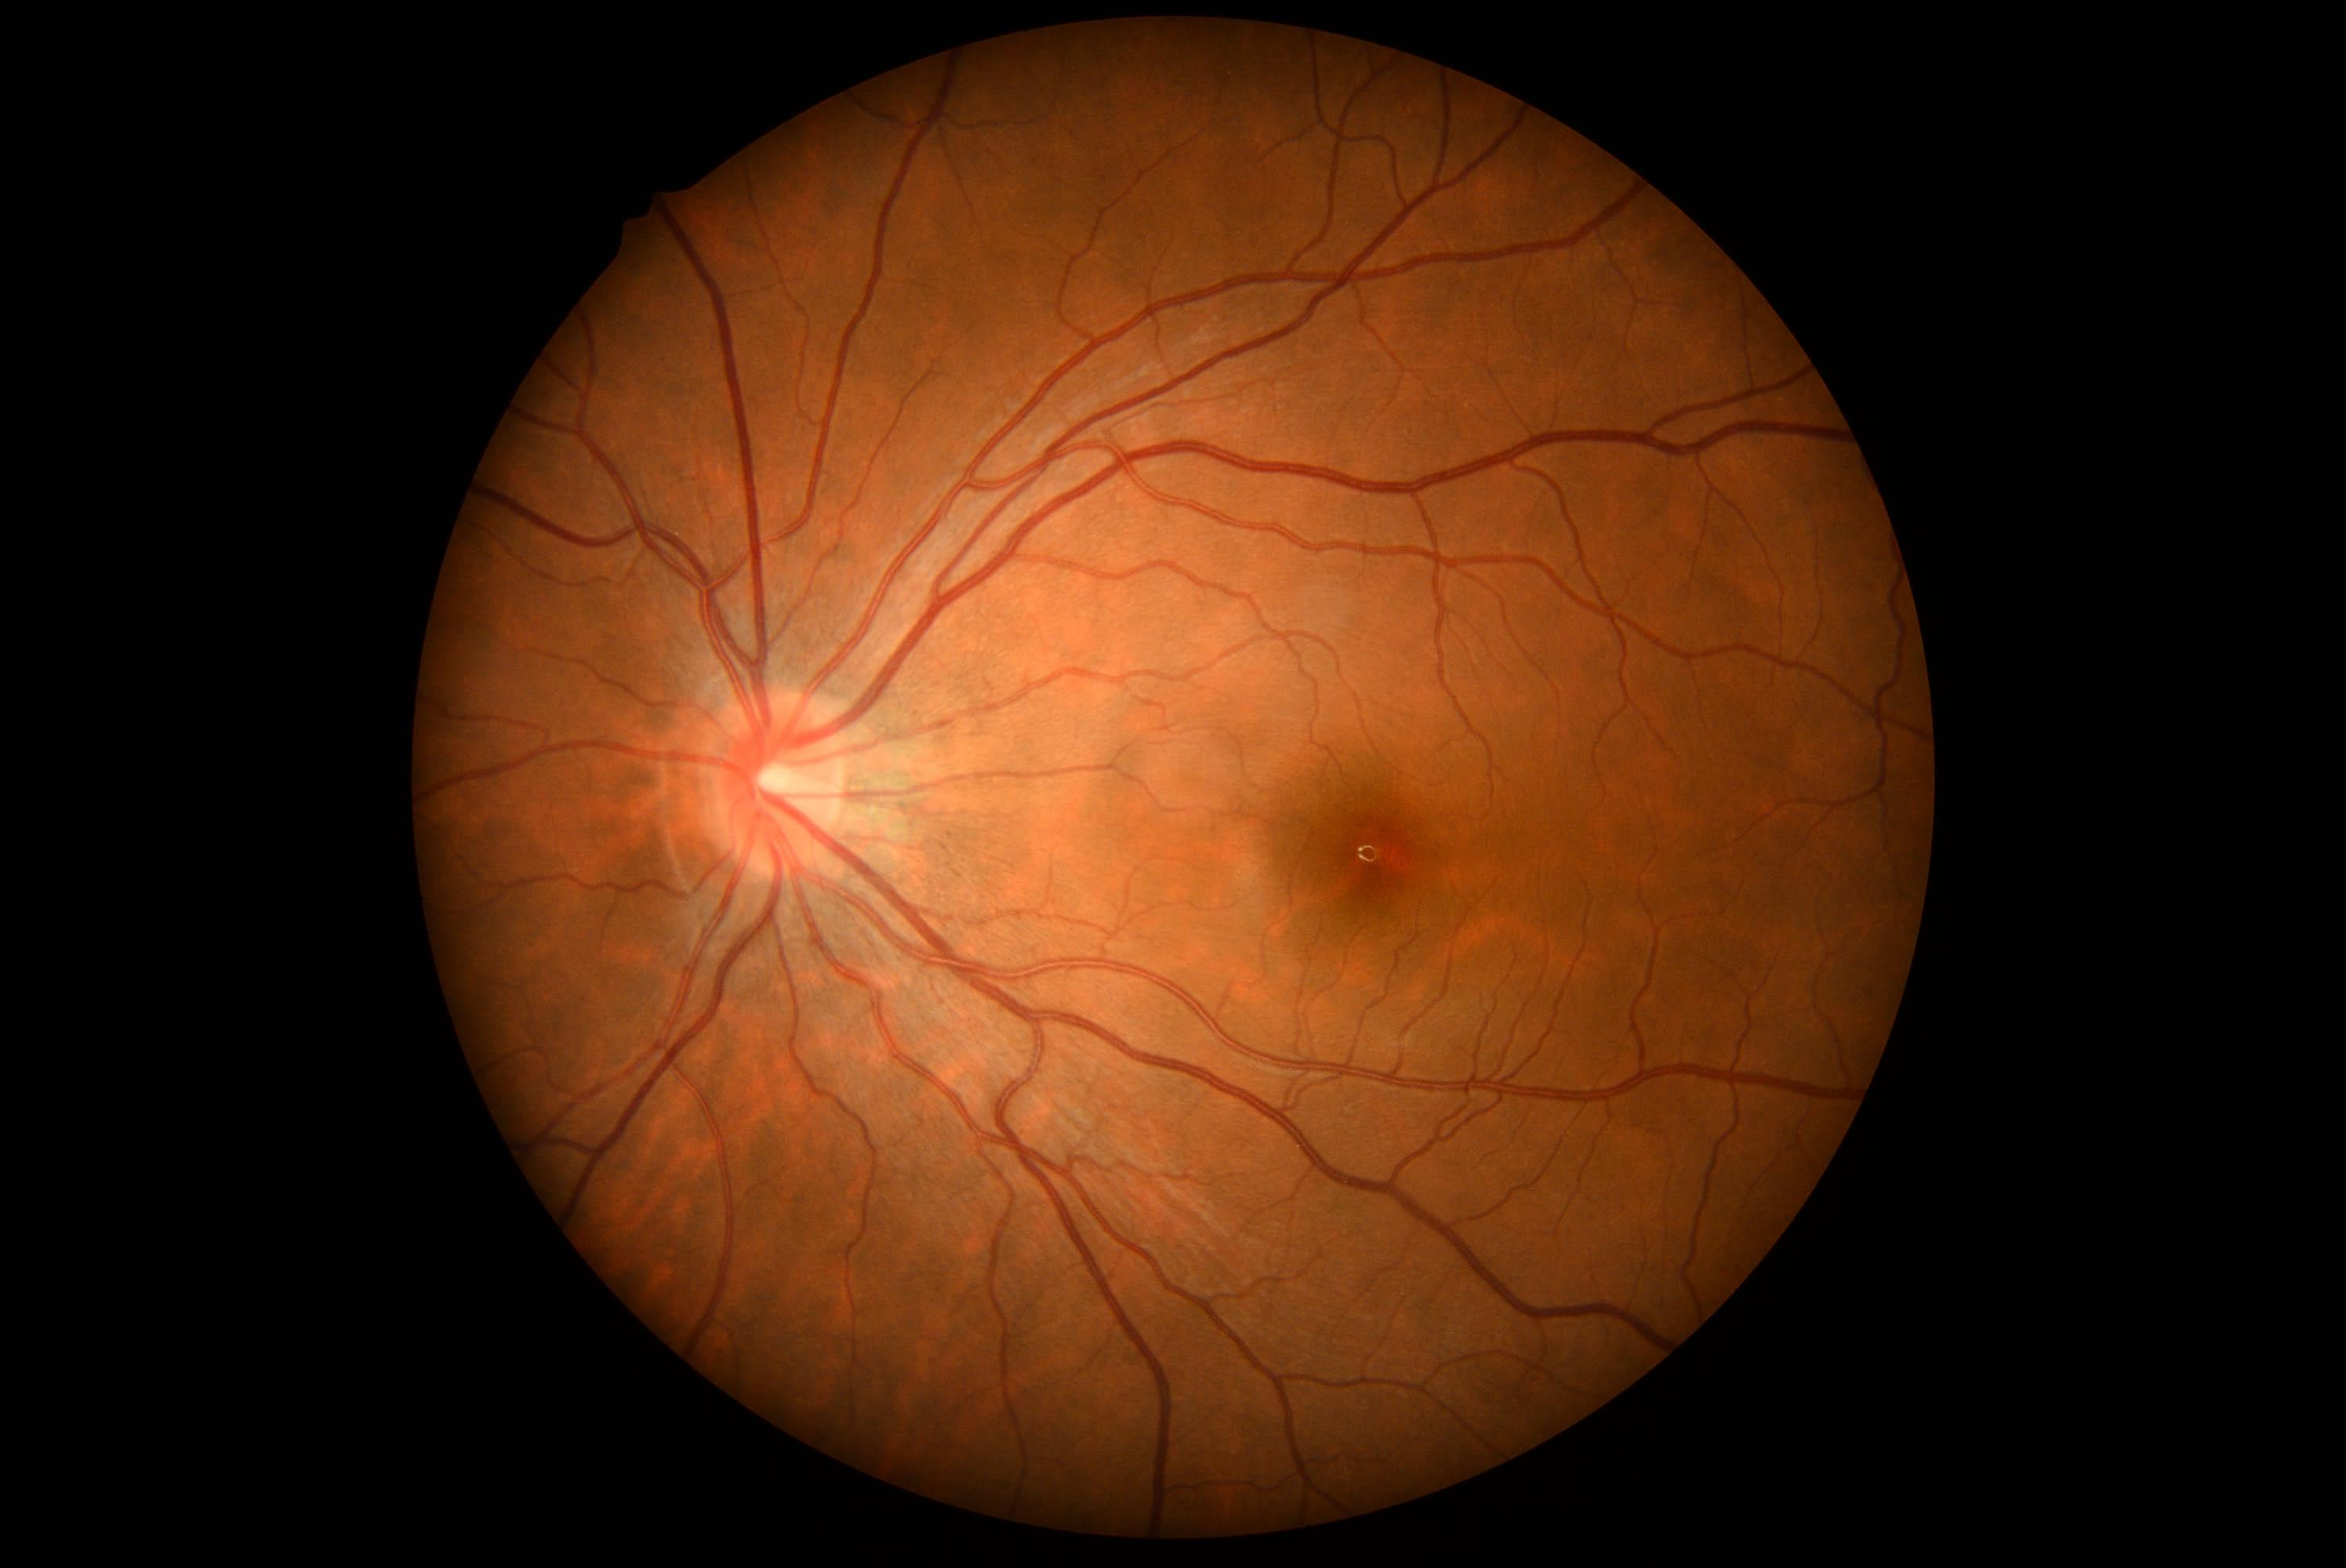Fovea: (1289, 773, 1445, 929)
